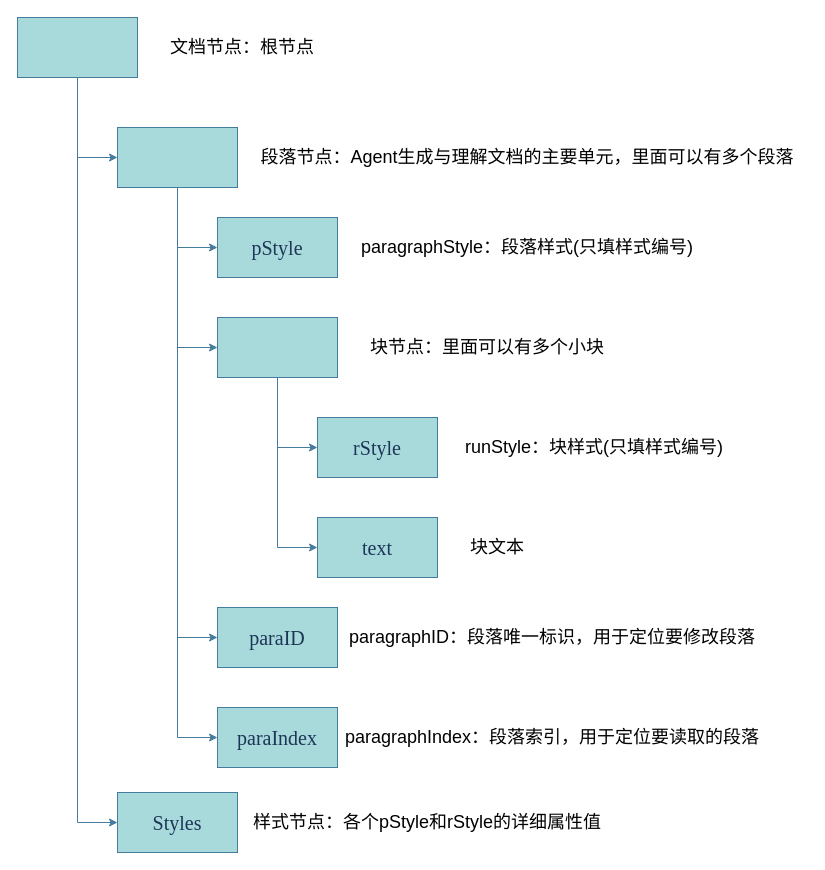
Some shapes in this 825 by 870 pixel diagram are drawn without their labels. Here are the shapes that lost their labels. From the top down, the centre of each, then its label:
the point at 77,47: document
the point at 177,157: paragraph
the point at 277,347: runs
